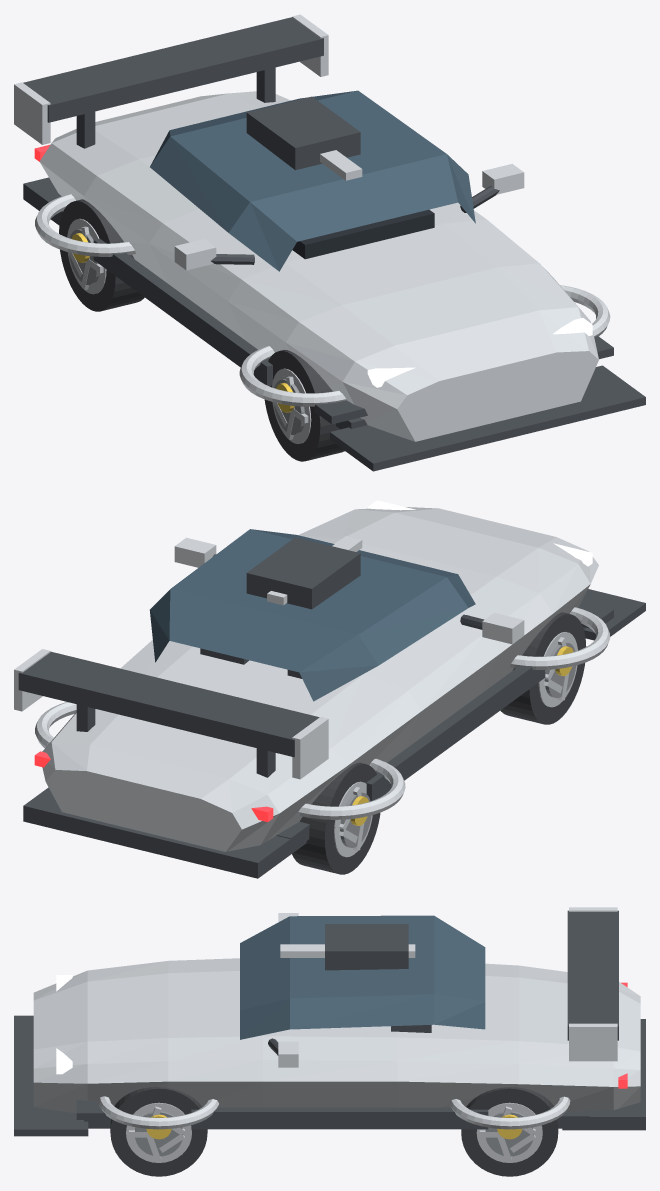
File: original_gt_racecar_v2.glb
3 renders of one model, top to bottom at view 1: azimuth 30°, elevation 25°; view 2: azimuth 150°, elevation 25°; view 3: azimuth 270°, elevation 25°, orthographic. The views are drawn at different scales.
Visible parts, largest first — view 1: Sculpted_Main_Body, Panoramic_Glass_Canopy, GT_Rear_Wing, Front_Splitter, Roof_Air_Scoop, Left_Side_Skirt, Wheel_FL, Wheel_RL, Dashboard, Fender_Lip_RL, Fender_Lip_FL, GT_Wing_Endplate_L (+11 smaller); view 2: Sculpted_Main_Body, Panoramic_Glass_Canopy, GT_Rear_Wing, Rear_Diffuser, Roof_Air_Scoop, Left_Side_Skirt, Wheel_RL, Wheel_FL, Fender_Lip_RL, Fender_Lip_FL, GT_Wing_Endplate_L, Front_Splitter (+10 smaller); view 3: Sculpted_Main_Body, Panoramic_Glass_Canopy, Right_Side_Skirt, GT_Rear_Wing, Roof_Air_Scoop, Front_Splitter, Wheel_FR, Wheel_RR, Rear_Diffuser, GT_Wing_Endplate_R, Fender_Lip_FR, Fender_Lip_RR (+8 smaller).
Boxes of the visible parts, <box> form: Sculpted_Main_Body: <box>39,91,598,441</box>; Panoramic_Glass_Canopy: <box>150,90,475,271</box>; GT_Rear_Wing: <box>23,17,323,122</box>; Front_Splitter: <box>330,365,645,471</box>; Roof_Air_Scoop: <box>246,96,360,170</box>; Left_Side_Skirt: <box>93,238,272,386</box>; Wheel_FL: <box>264,349,344,461</box>; Wheel_RL: <box>59,199,144,311</box>; Dashboard: <box>292,209,434,259</box>; Fender_Lip_RL: <box>35,194,135,256</box>; Fender_Lip_FL: <box>239,346,346,406</box>; GT_Wing_Endplate_L: <box>14,82,50,144</box>; Sculpted_Main_Body: <box>42,507,598,851</box>; Panoramic_Glass_Canopy: <box>149,529,475,701</box>; GT_Rear_Wing: <box>18,651,319,756</box>; Rear_Diffuser: <box>23,787,306,878</box>; Roof_Air_Scoop: <box>246,537,360,609</box>; Left_Side_Skirt: <box>366,656,545,801</box>; Wheel_RL: <box>292,762,380,874</box>; Wheel_FL: <box>500,612,586,724</box>; Fender_Lip_RL: <box>297,758,405,819</box>; Fender_Lip_FL: <box>510,607,610,669</box>; GT_Wing_Endplate_L: <box>292,717,328,779</box>; Front_Splitter: <box>582,589,645,640</box>; Sculpted_Main_Body: <box>33,958,640,1113</box>; Panoramic_Glass_Canopy: <box>240,915,485,1039</box>; Right_Side_Skirt: <box>191,1107,488,1129</box>; GT_Rear_Wing: <box>567,910,618,1040</box>; Roof_Air_Scoop: <box>325,924,408,970</box>; Front_Splitter: <box>14,1015,88,1136</box>; Wheel_FR: <box>110,1087,207,1176</box>; Wheel_RR: <box>461,1087,558,1176</box>; Rear_Diffuser: <box>562,1019,645,1130</box>; GT_Wing_Endplate_R: <box>569,1023,617,1061</box>; Fender_Lip_FR: <box>98,1096,218,1129</box>; Fender_Lip_RR: <box>449,1096,570,1129</box>.
Bounding box in the file's own units: 2.58 × 1.5 × 4.68.
